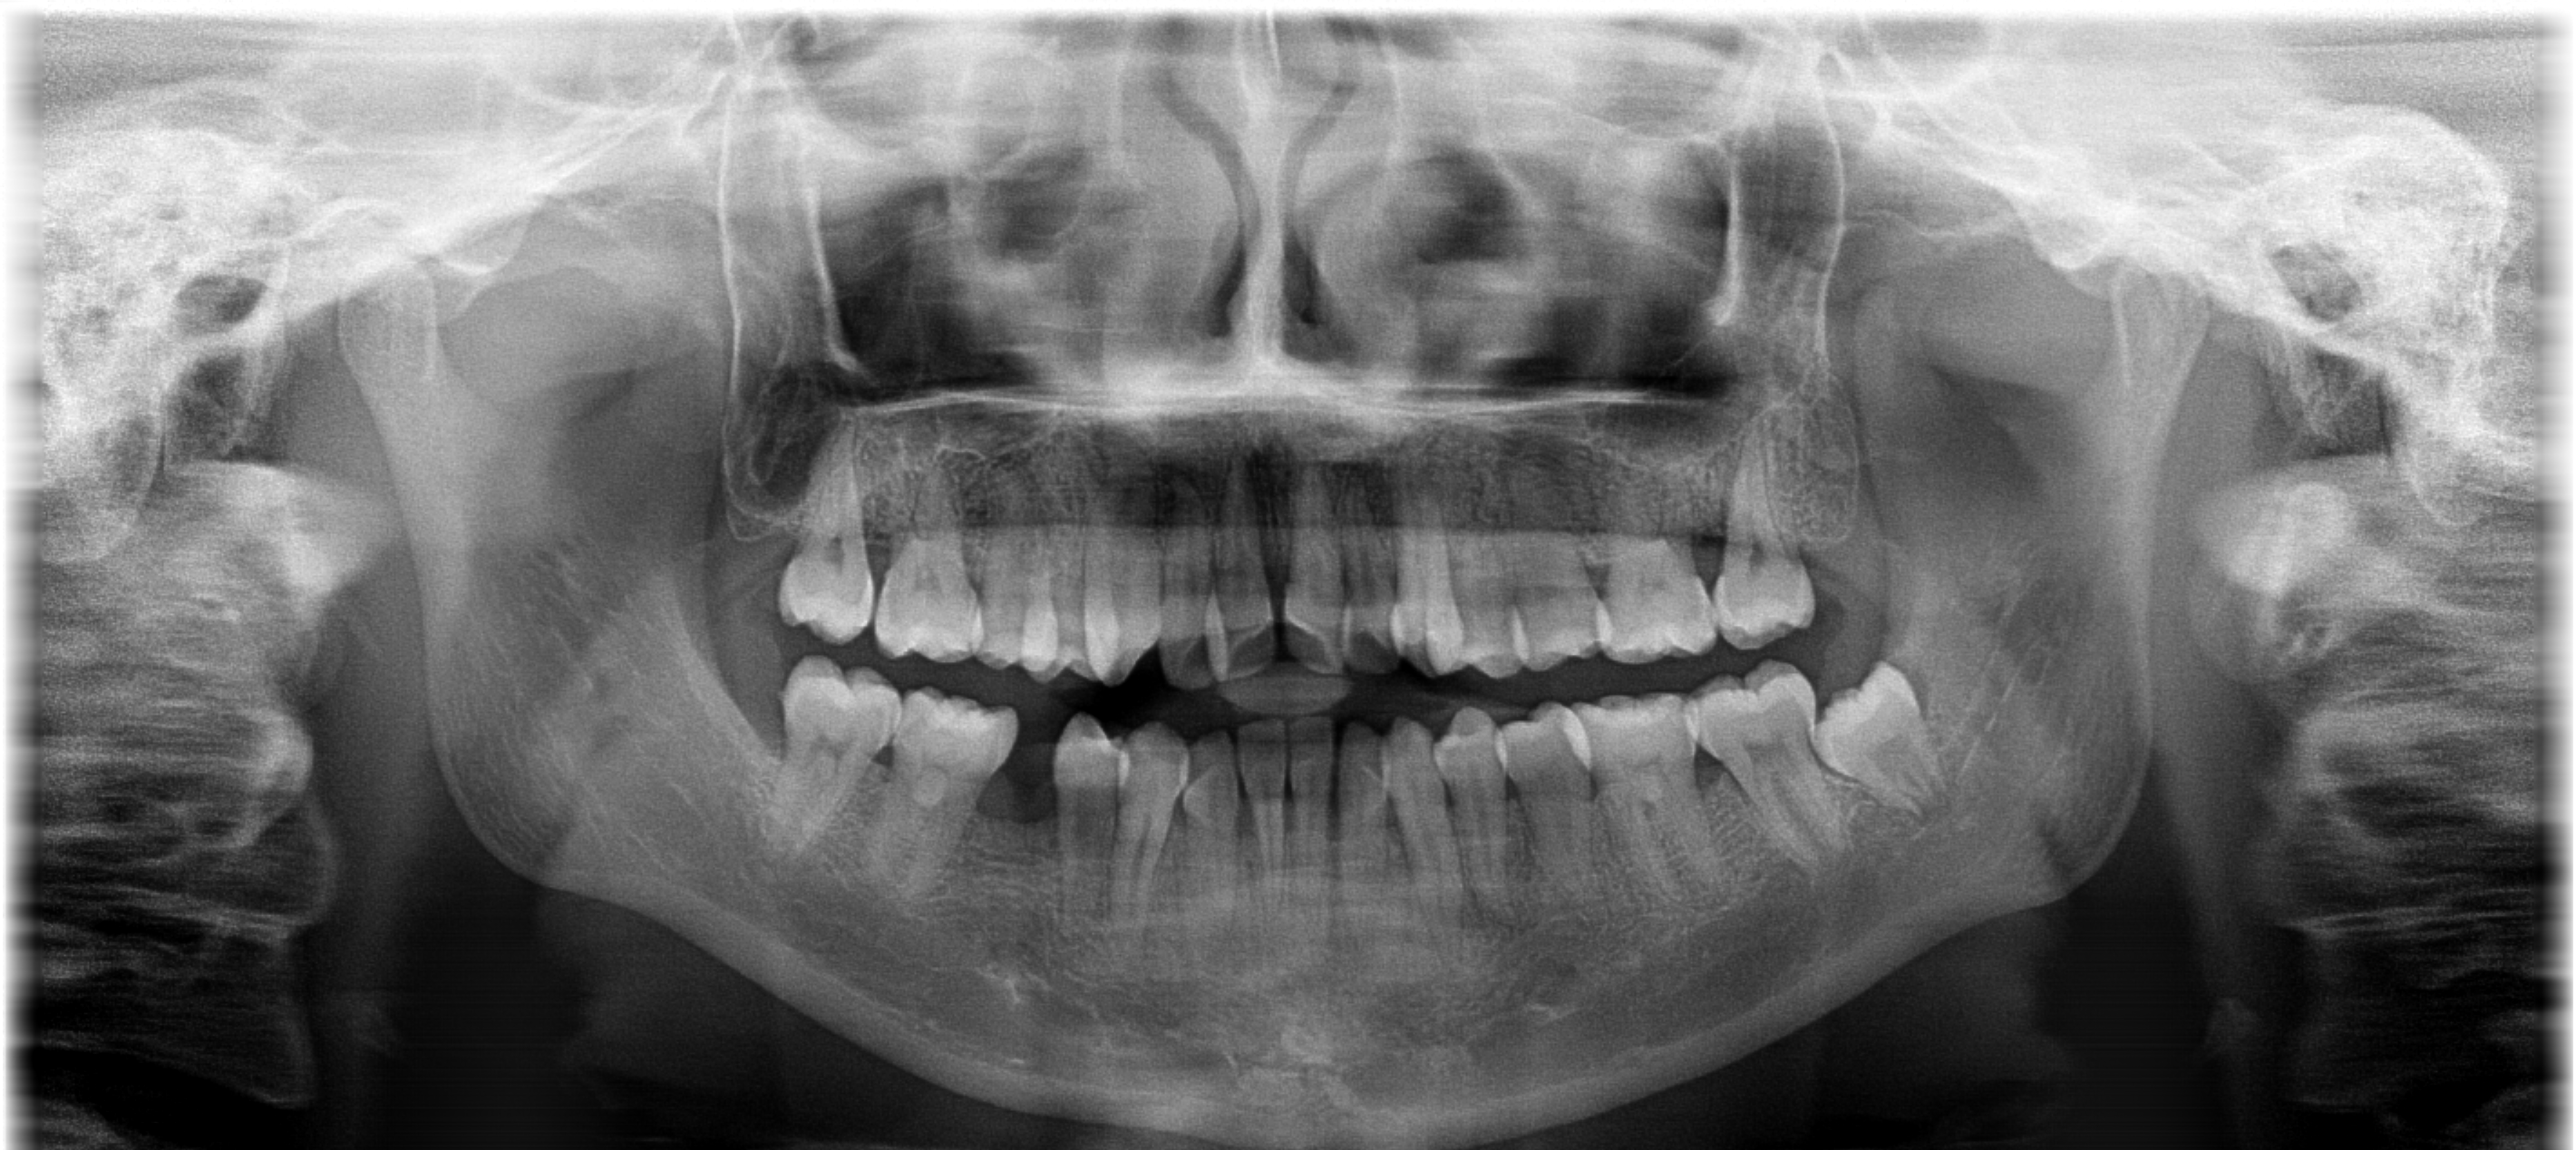cordal: (1801, 634, 1975, 838)
diastema: (1250, 460, 1308, 677)
zona_dentula: (950, 687, 1092, 920)
